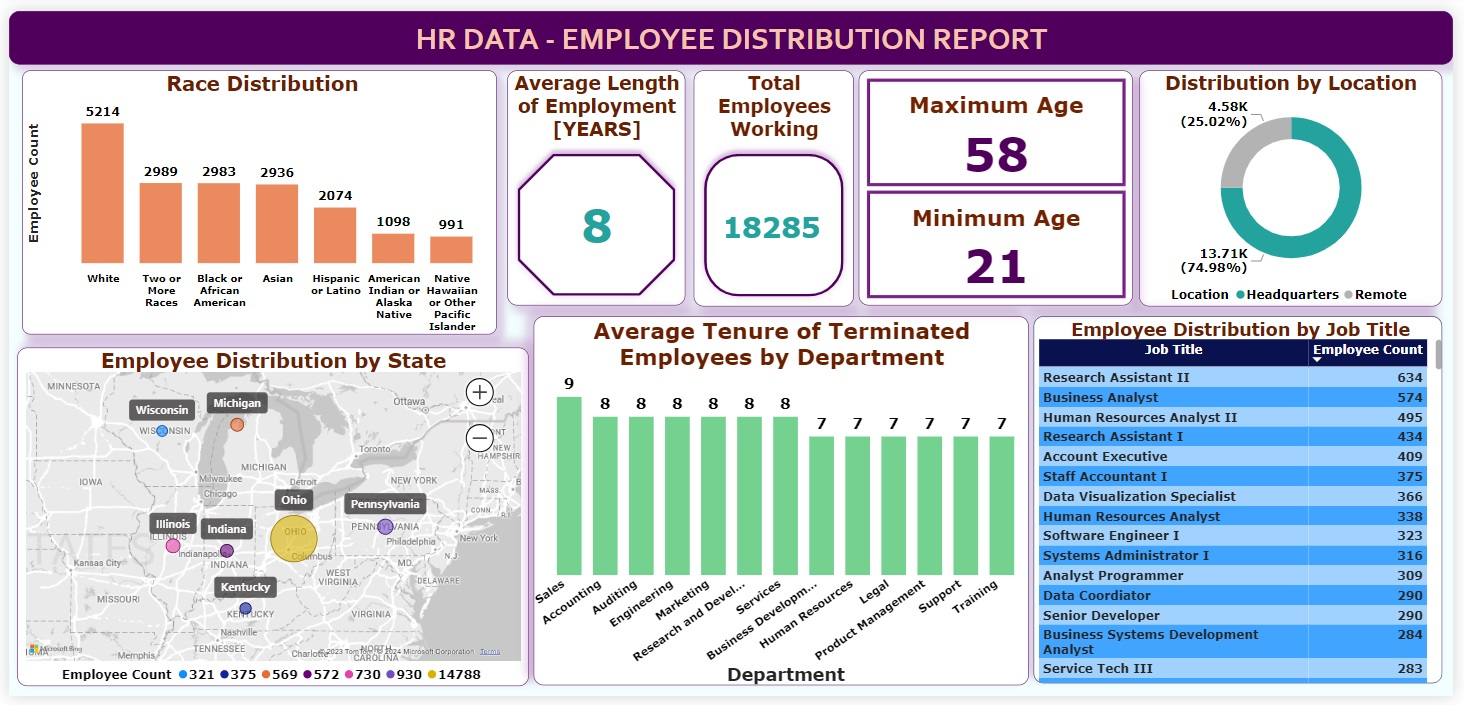

The dashboard page shown, as its layout file describes it:
{"tool":"powerbi","page":{"name":"Page 1","canvas":[1750,830],"ordinal":0},"visuals":[{"type":"textbox","box":[0,0,1750,65],"z":0},{"type":"cardVisual","title":"Average Length of Employment [YEARS]","fields":{"Data":["Sum(Avg len of employment for terminated employees.Average Length of Employment)"]},"box":[604,72,216,285],"z":1000},{"type":"clusteredColumnChart","title":"Race Distribution","fields":{"Category":["Emp count by Race.race"],"Y":["Sum(Emp count by Race.Employee Count)"]},"box":[15,72.5,575,320],"z":2000},{"type":"donutChart","title":"Distribution by Location","fields":{"Category":["Emp count by Location.location"],"Y":["Sum(Emp count by Location.Employee Count)"]},"box":[1370,72,367,286],"z":3000},{"type":"map","title":"Employee Distribution by State","fields":{"Category":["Emp count by state.location_state"],"Series":["Emp count by state.Employee Count"],"Size":["Sum(Emp count by state.Employee Count)"]},"box":[10,407.5,620,410],"z":4000},{"type":"tableEx","title":"Employee Distribution by Job Title","fields":{"Values":["Emp count by Jobtitle.jobtitle","Sum(Emp count by Jobtitle.Employee Count)"]},"box":[1242.5,370,495,445],"z":5000},{"type":"columnChart","title":"Average Tenure of Terminated Employees by Department","fields":{"Category":["Average Tenure by Dept.department"],"Y":["Sum(Average Tenure by Dept.Average Tenure)"]},"box":[635,370,600,447.5],"z":6000},{"type":"cardVisual","title":"Total Employees Working","fields":{"Data":["Sum(Total Employees.Total Employees)"]},"box":[830,72,194,286],"z":7000},{"type":"cardVisual","fields":{"Data":["Sum(Minimum and Maximum Age.Maximum Age)","Sum(Minimum and Maximum Age.Minimum Age)"]},"box":[1030,72,332,285],"z":8000}]}

Visuals, with their boxes in screenshot pixels (x1, y1, x2, y2), scaled from the page's 1750x830 canvas onto the 1464x705 screenshot:
textbox: 0 0 1463 55
"Average Length of Employment [YEARS]" cardVisual: 505 61 686 303
"Race Distribution" clusteredColumnChart: 13 62 494 333
"Distribution by Location" donutChart: 1146 61 1453 304
"Employee Distribution by State" map: 8 346 527 694
"Employee Distribution by Job Title" tableEx: 1039 314 1454 692
"Average Tenure of Terminated Employees by Department" columnChart: 531 314 1033 694
"Total Employees Working" cardVisual: 694 61 857 304
cardVisual - Sum(Minimum and Maximum Age.Maximum Age) x Sum(Minimum and Maximum Age.Minimum Age): 862 61 1139 303
